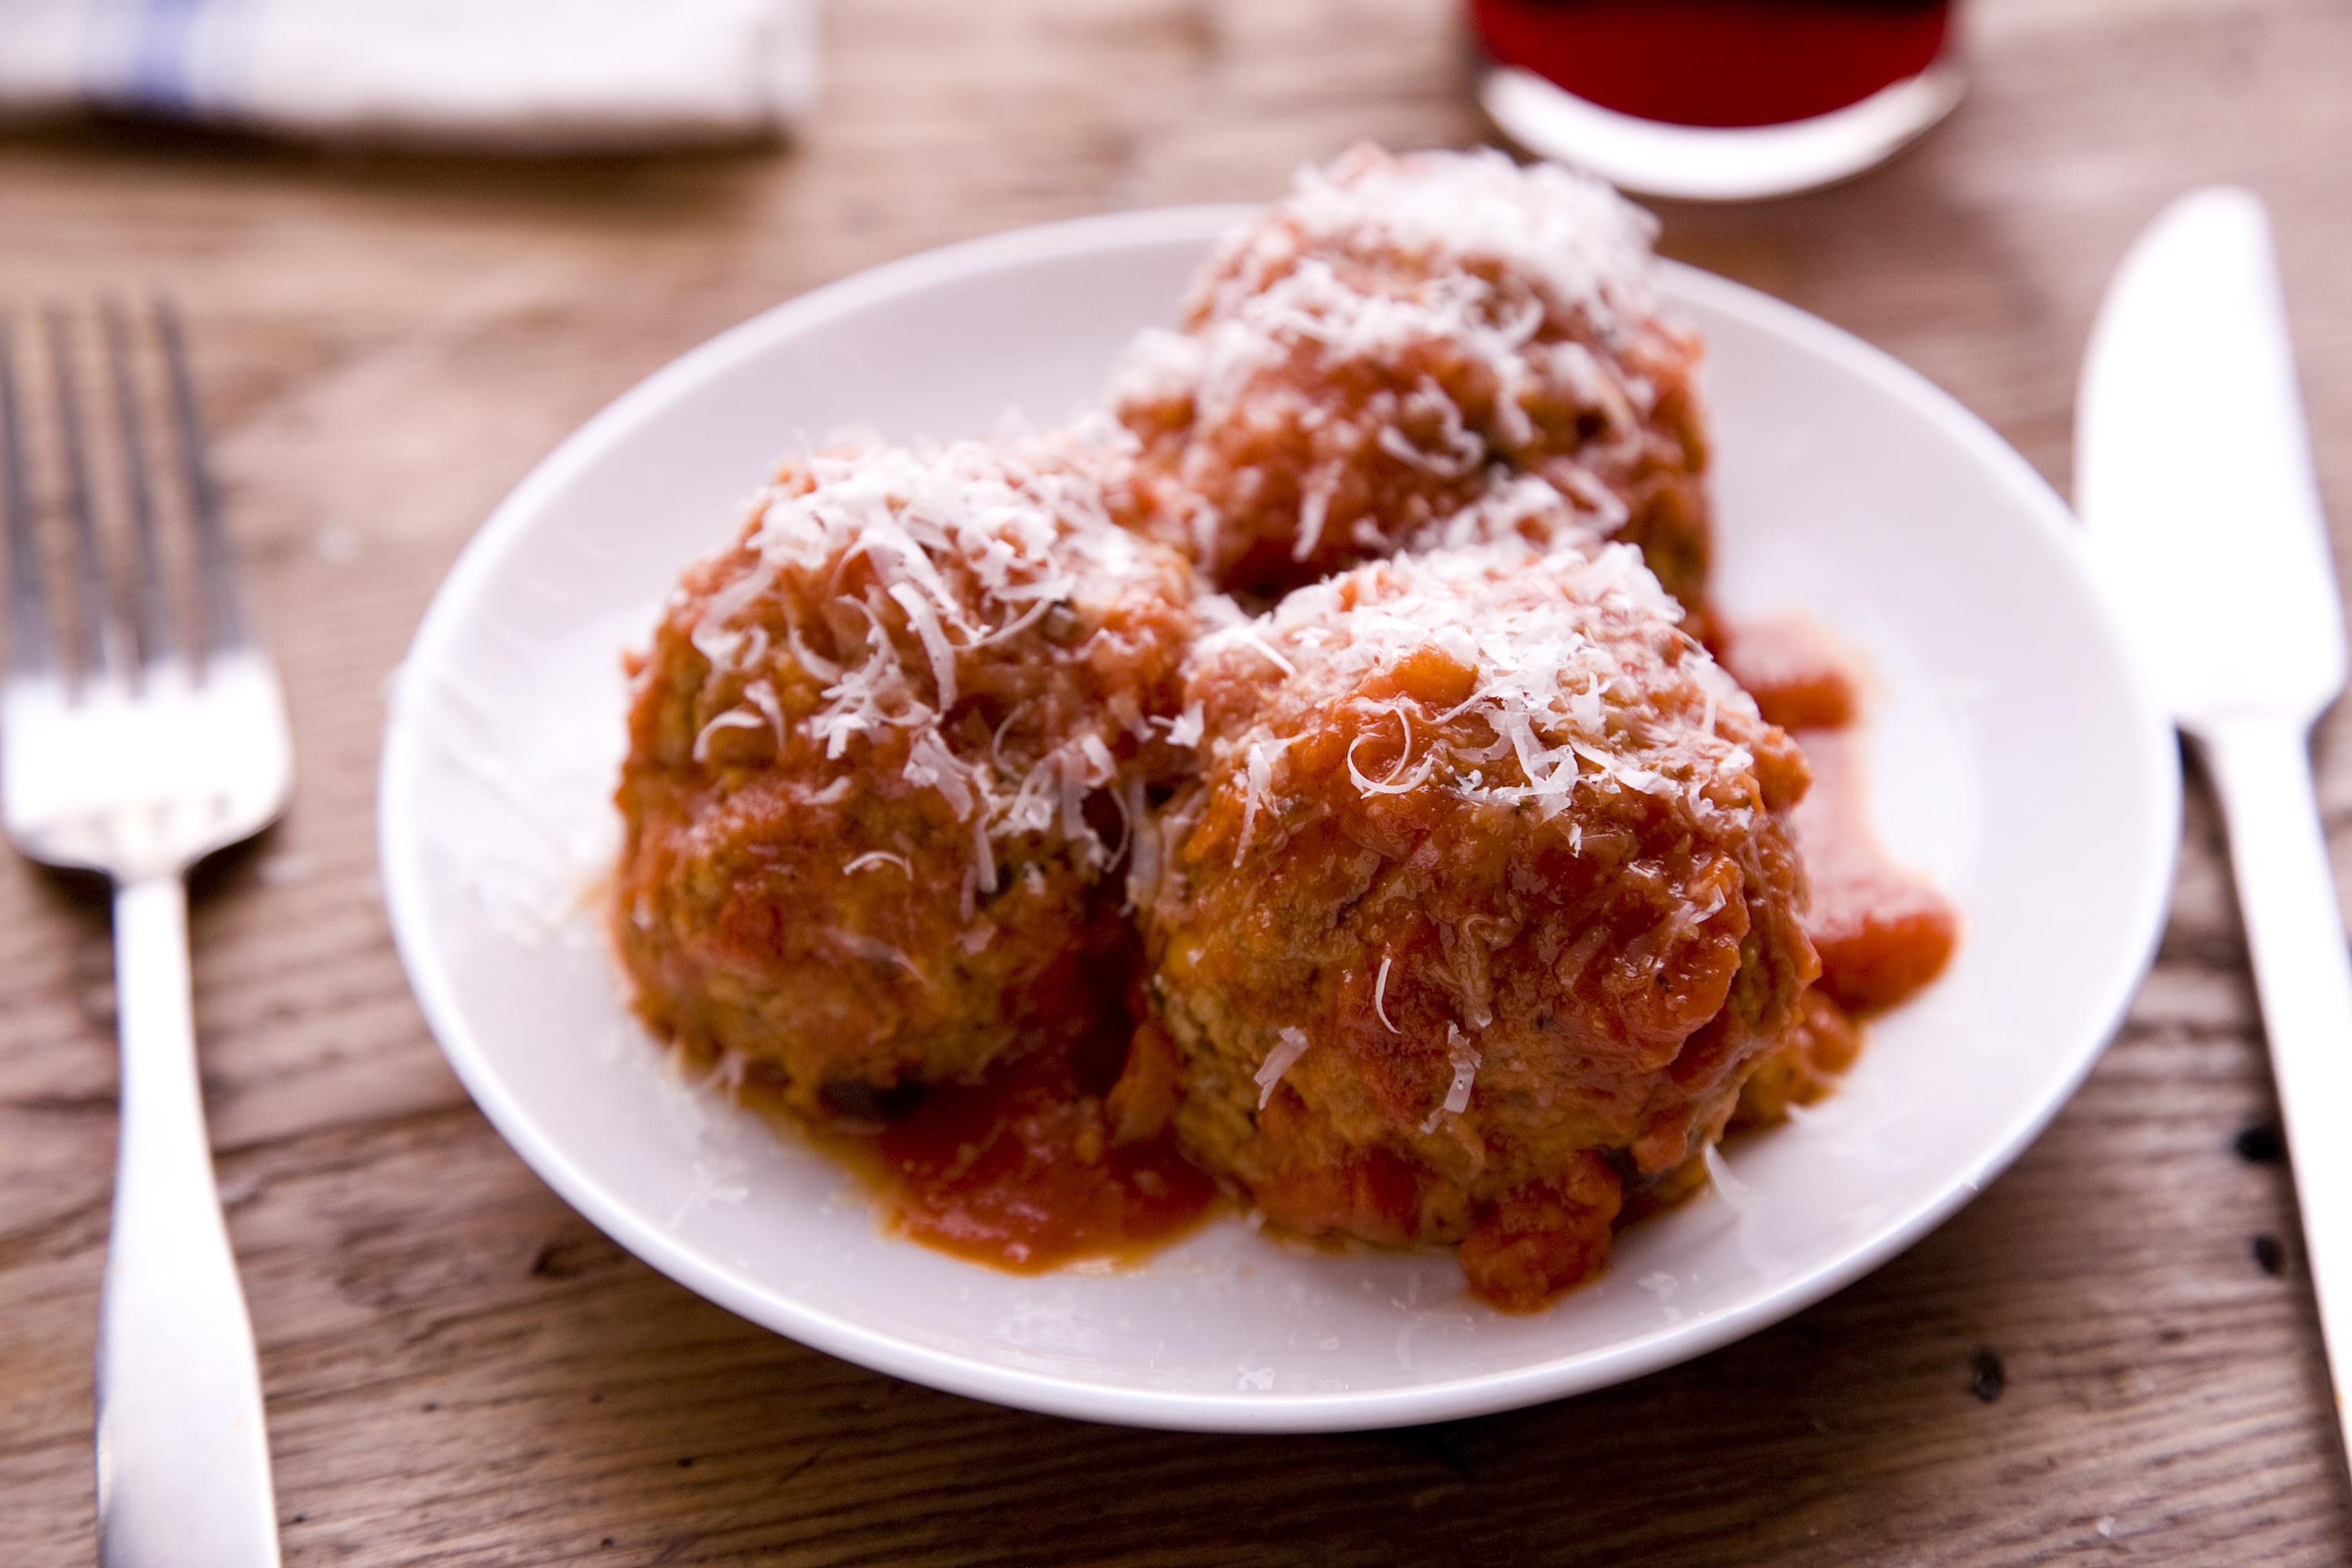meatballs: (1067, 500, 1790, 1206), (1132, 150, 1694, 747), (644, 500, 1223, 1036)
